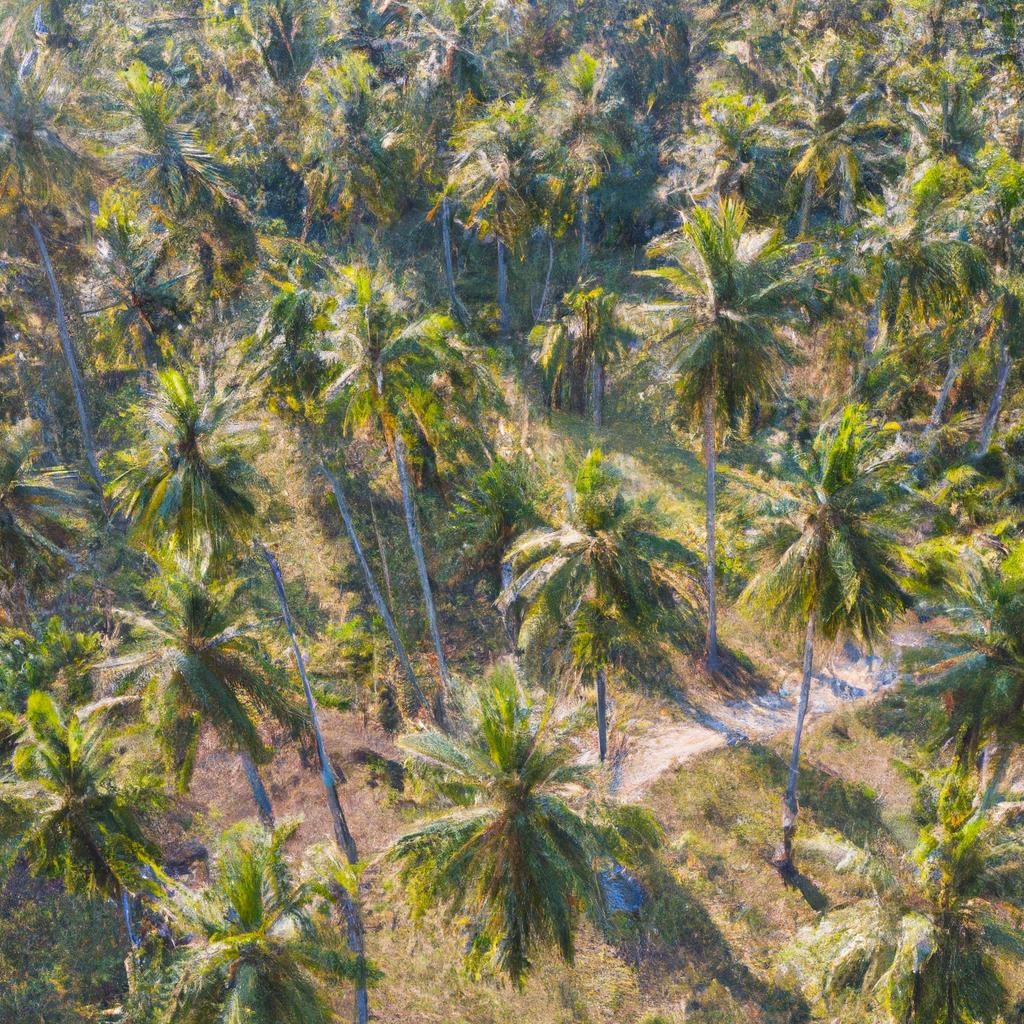coconut_tree: (416, 680, 648, 981), (724, 393, 932, 635), (102, 578, 328, 766), (628, 220, 828, 432), (493, 477, 707, 669), (150, 845, 372, 1023), (91, 366, 294, 556), (319, 274, 495, 459)
